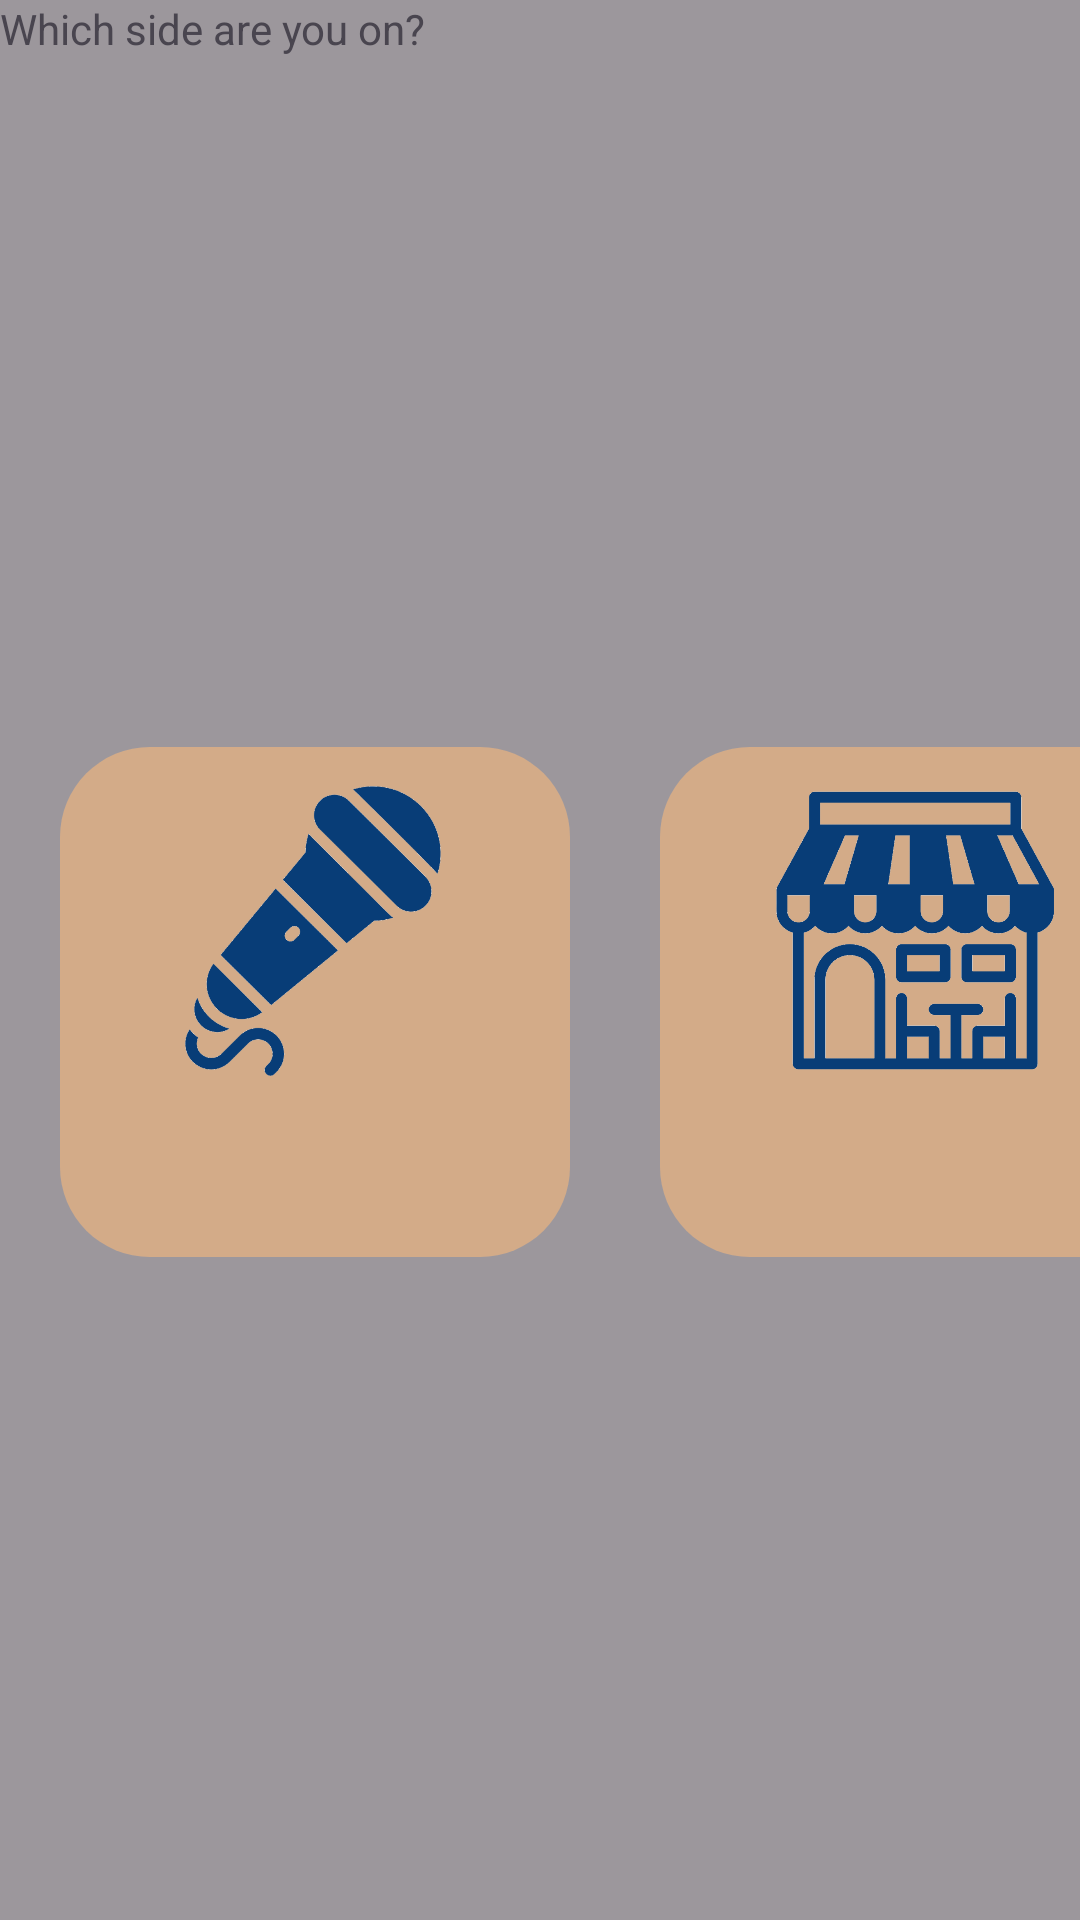

Locate icon controls on the screen. Image size 1080px×1920px, boxes as (x1, y1, x2, y2).
local: (776, 791, 1054, 1070)
micro: (185, 786, 441, 1076)
